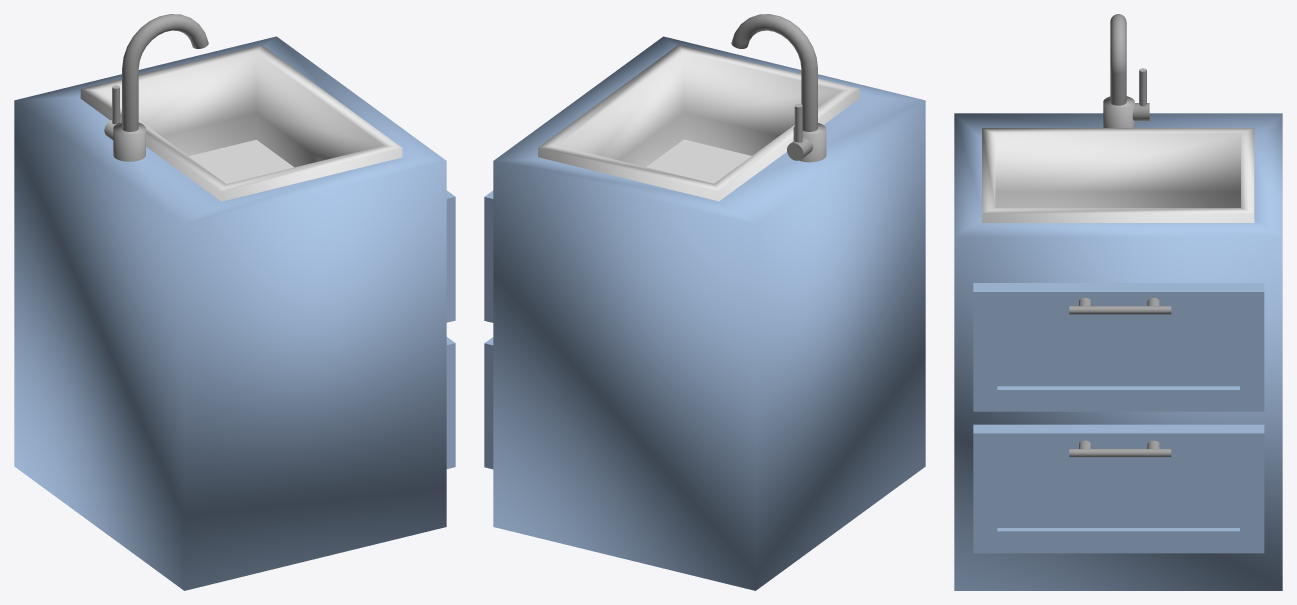
Rendered from waschbecken.glb.
3 renders of one model, left to right at view 1: azimuth 30°, elevation 25°; view 2: azimuth 150°, elevation 25°; view 3: azimuth 270°, elevation 25°, orthographic. The views are drawn at different scales.
Visible parts, largest first — view 1: Cube.001, Cube.004, Cylinder, Cube.002, Cylinder.002; view 2: Cube.001, Cube.004, Cylinder, Cube.002, Cylinder.002; view 3: Cube.002, Cube.001, Cube.004, Cylinder.001, Cylinder, Cylinder.002.
Part boxes in pixels (x1,y1,x2,y2): Cube.001: (14,36,446,590); Cube.004: (80,45,402,201); Cylinder: (122,14,208,131); Cube.002: (446,190,455,468); Cylinder.002: (113,122,145,161); Cube.001: (493,36,925,590); Cube.004: (538,44,859,201); Cylinder: (731,14,817,131); Cube.002: (484,190,493,469); Cylinder.002: (793,123,826,162); Cube.002: (973,283,1264,553); Cube.001: (954,113,1282,590); Cube.004: (982,128,1254,222); Cylinder.001: (1069,297,1171,457); Cylinder: (1110,14,1126,105); Cylinder.002: (1103,96,1134,127).
Bounding box in the file's own units: 1.16 × 1.82 × 1.13.
